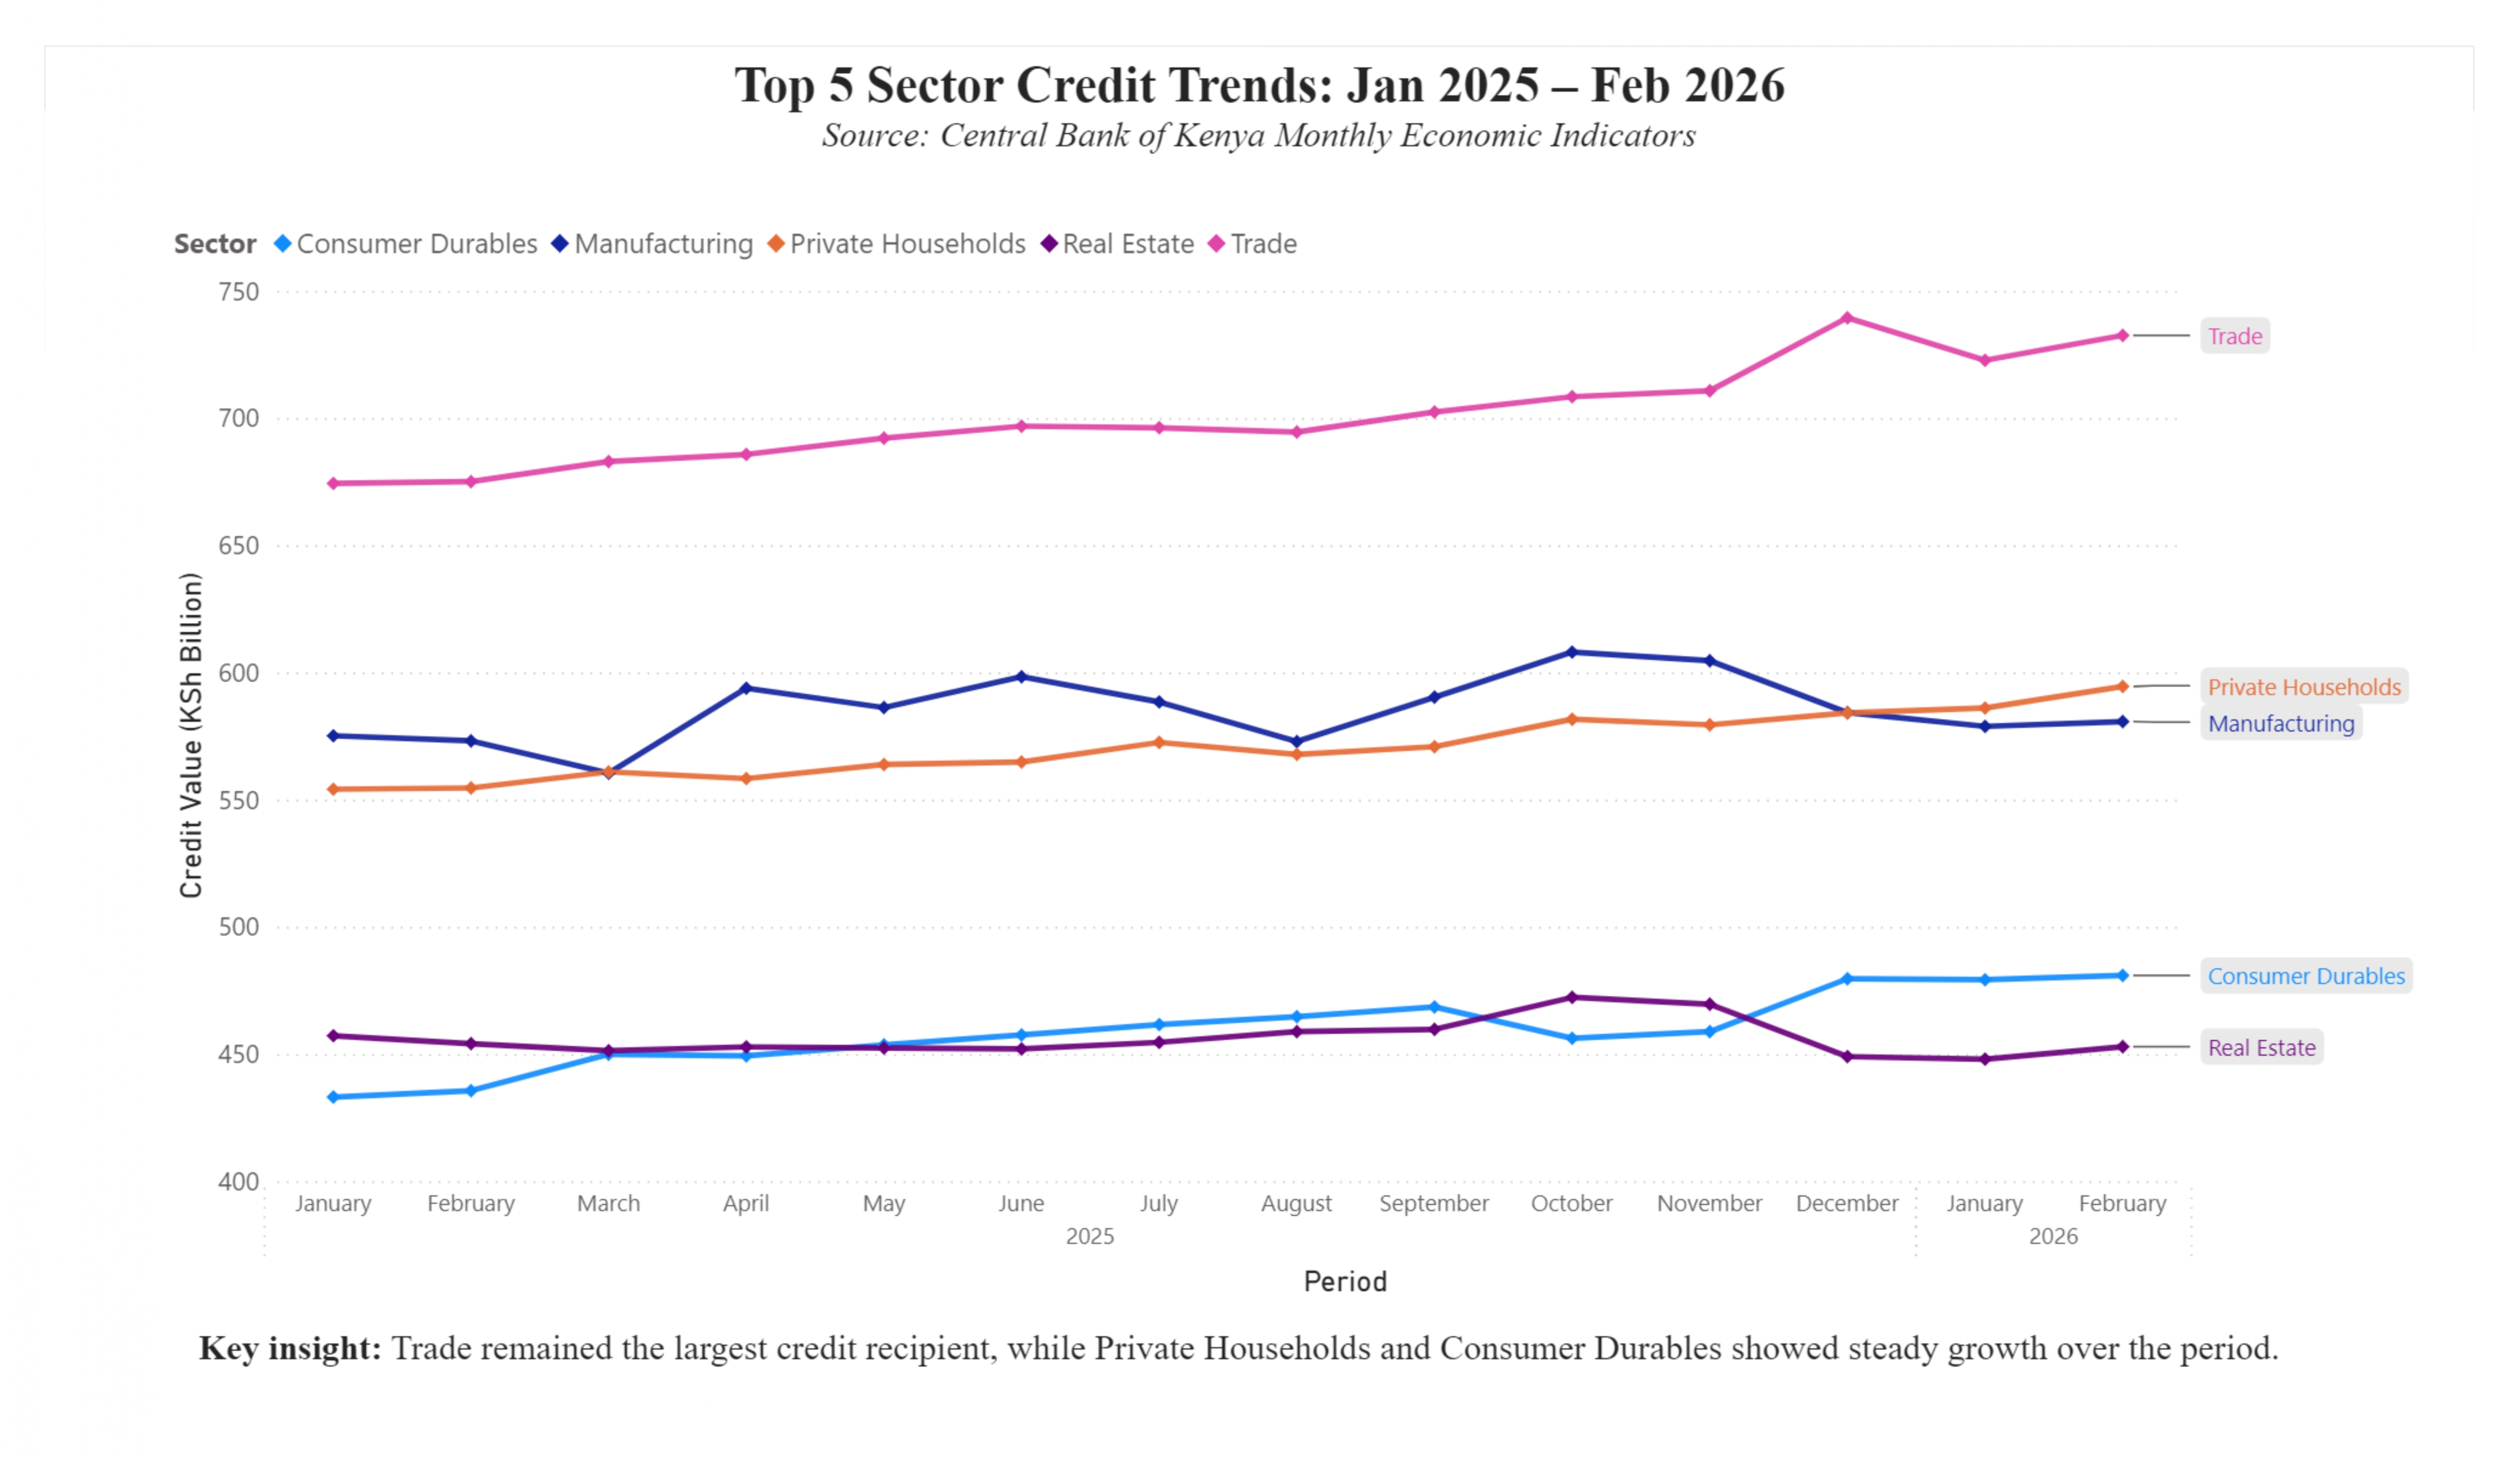

This screenshot's page, from the dashboard's own definition file:
{"tool":"powerbi","page":{"name":"Sector Credit Trends","canvas":[1280,720],"ordinal":3},"visuals":[{"type":"lineChart","fields":{"Category":["Sector_Credit_Data.Date.Variation.Date Hierarchy.Year","Sector_Credit_Data.Date.Variation.Date Hierarchy.Month"],"Y":["Sum(Sector_Credit_Data.Credit_Value)"],"Series":["Sector_Credit_Data.Sector"]},"box":[62.9,82.9,1190,581.4],"z":0},{"type":"textbox","box":[0,0,1280,88.6],"z":1000},{"type":"textbox","box":[75.7,670,1137.1,50],"z":2000}]}

Visuals, with their boxes on the page's 1280x720 design canvas (x1, y1, x2, y2). These are canvas units, not pixel positions in the 2520x1457 screenshot, which may show the page scaled, cropped or inside an application window:
lineChart - Sector_Credit_Data.Date.Variation.Date Hierarchy.Year x Sector_Credit_Data.Date.Variation.Date Hierarchy.Month: (x1=63, y1=83, x2=1253, y2=664)
textbox: (x1=0, y1=0, x2=1280, y2=89)
textbox: (x1=76, y1=670, x2=1213, y2=720)
